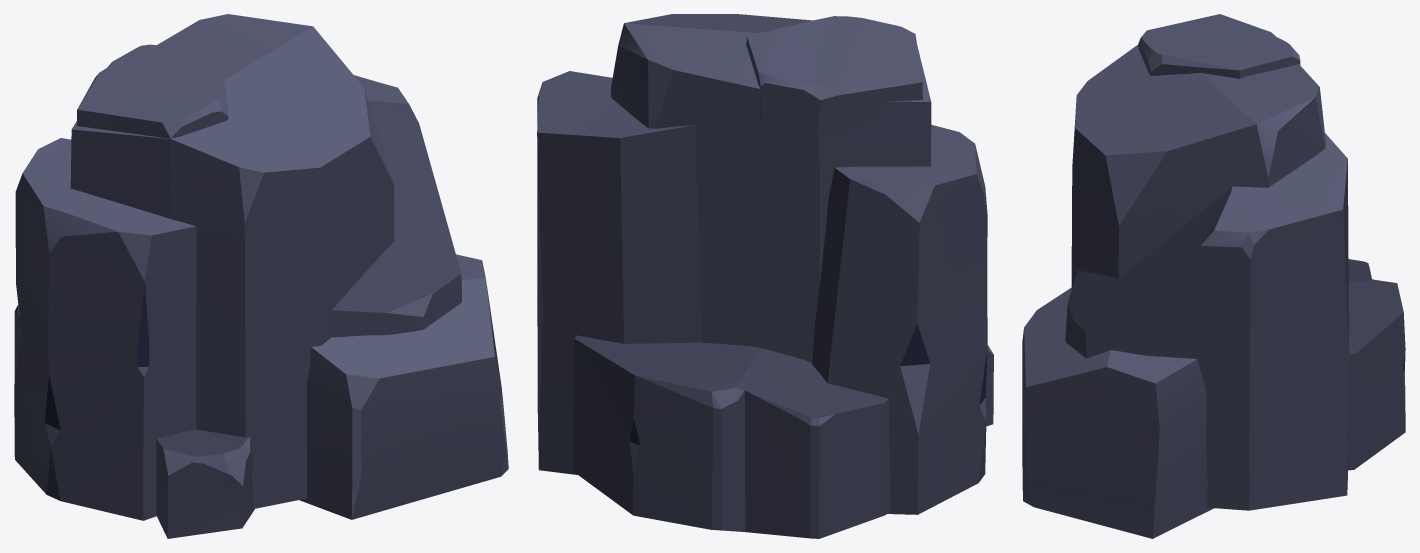
The model's file is StoneC_LPC01.fbx.
3 views of the same model, side by side, from view 1: azimuth 30°, elevation 25°; view 2: azimuth 150°, elevation 25°; view 3: azimuth 270°, elevation 25° (orthographic). The views are drawn at different scales.
Visible parts, largest first — view 1: StoneC_LPC; view 2: StoneC_LPC; view 3: StoneC_LPC.
Part boxes in pixels (box(x1,y1,x2,y2)): StoneC_LPC: box(14, 14, 508, 538); StoneC_LPC: box(537, 14, 993, 538); StoneC_LPC: box(1022, 14, 1405, 538).
Bounding box in the file's own units: 7820 × 6813 × 6502.
